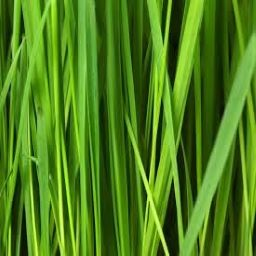grass: (2, 4, 249, 248)
